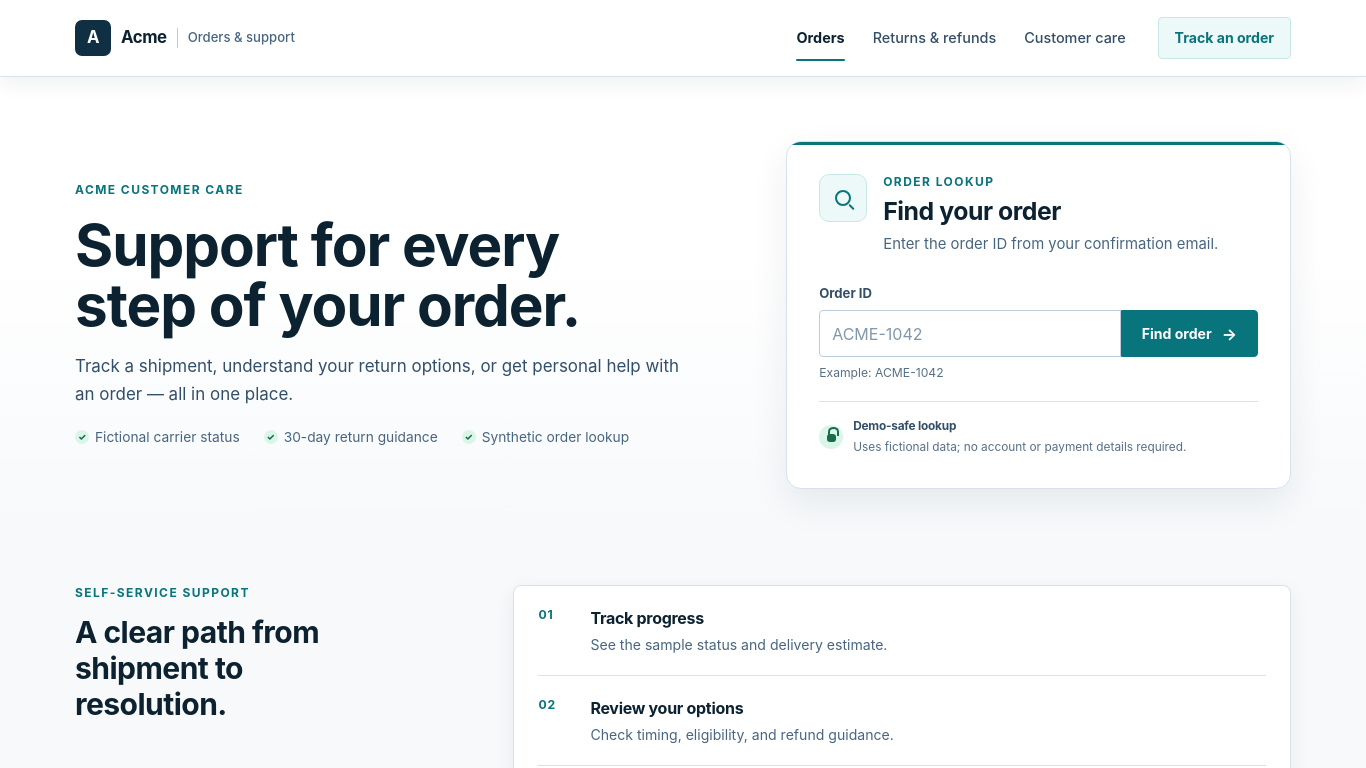
Test: SupportPortal customer journey › looks up a known order, projects deterministic details, and completes the case flow
This screenshot has width=1366, height=768.
Type "acme-1042" into the field with test id "order-id-input" at (970, 334), box [819,310,1121,357]
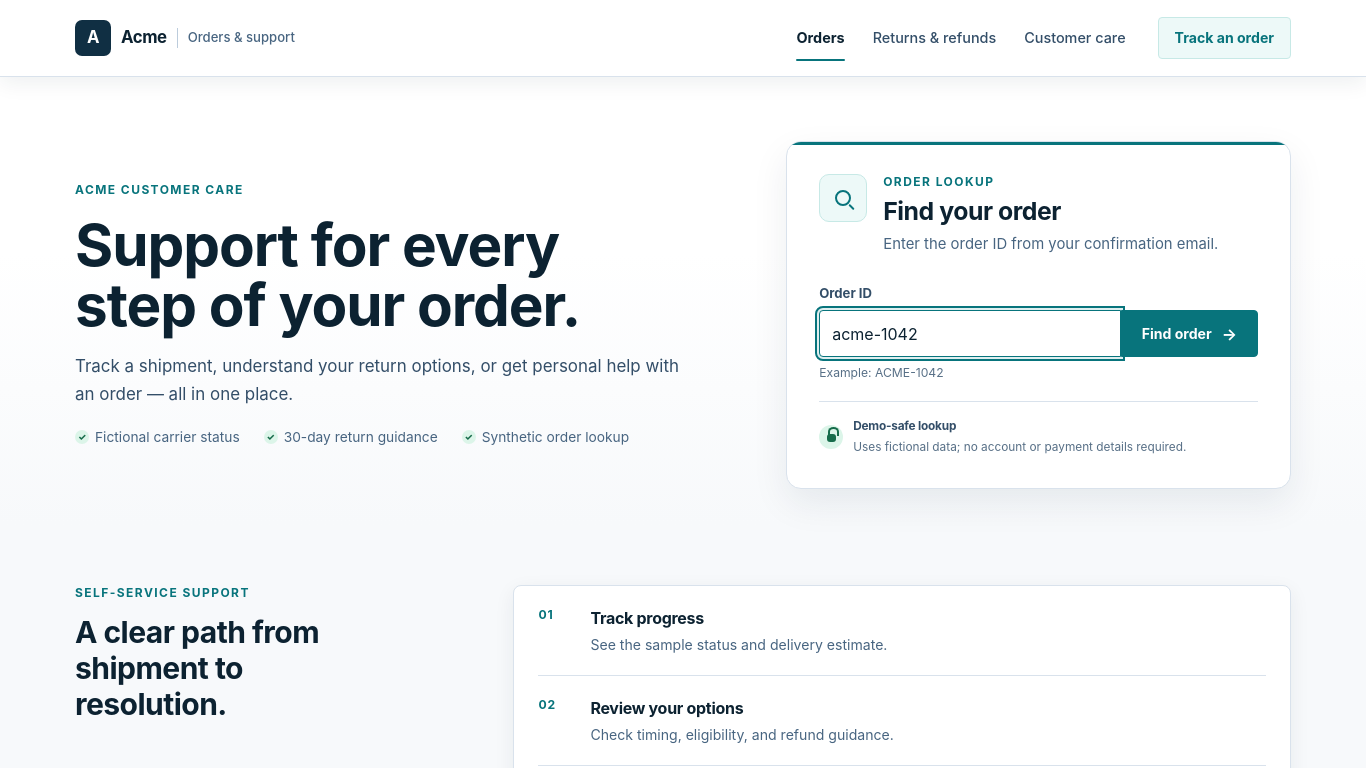
Click the button with test id "order-lookup-button" at (1189, 334), box [1121,310,1258,357]
(page scrolled)
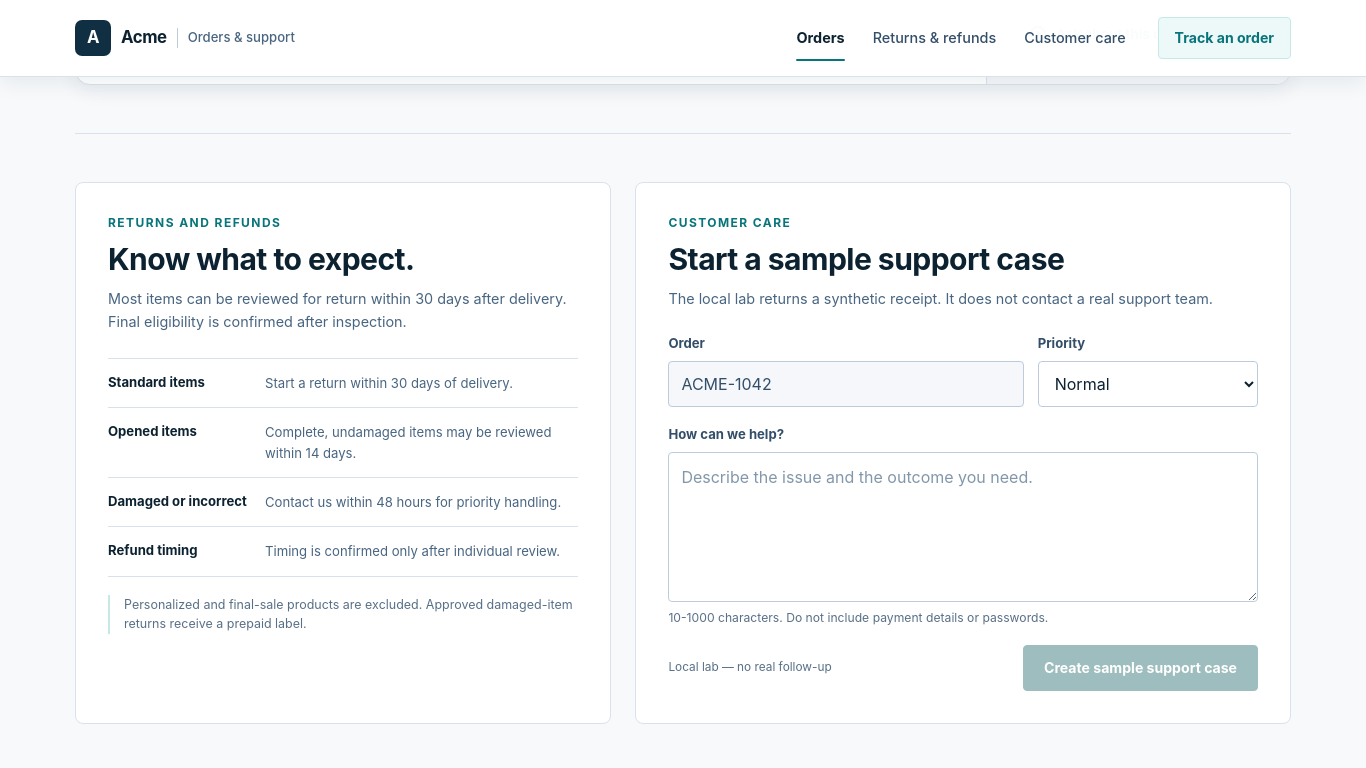
Select "High" in the dropdown with test id "priority-select" at (1148, 384), box [1038,361,1258,407]
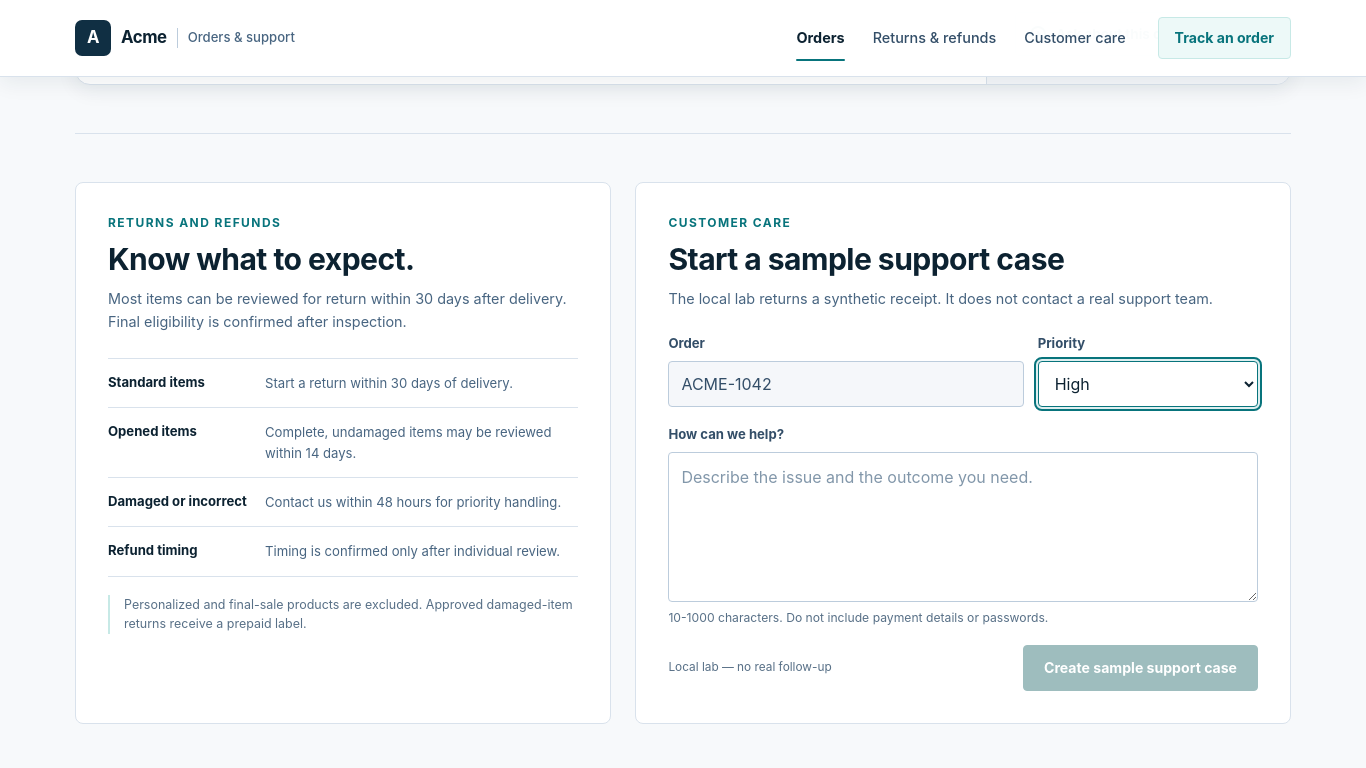
Type "The order is delayed and I need help with the delivery date." into the text box with test id "support-case-description" at (963, 527), box [668,452,1258,602]
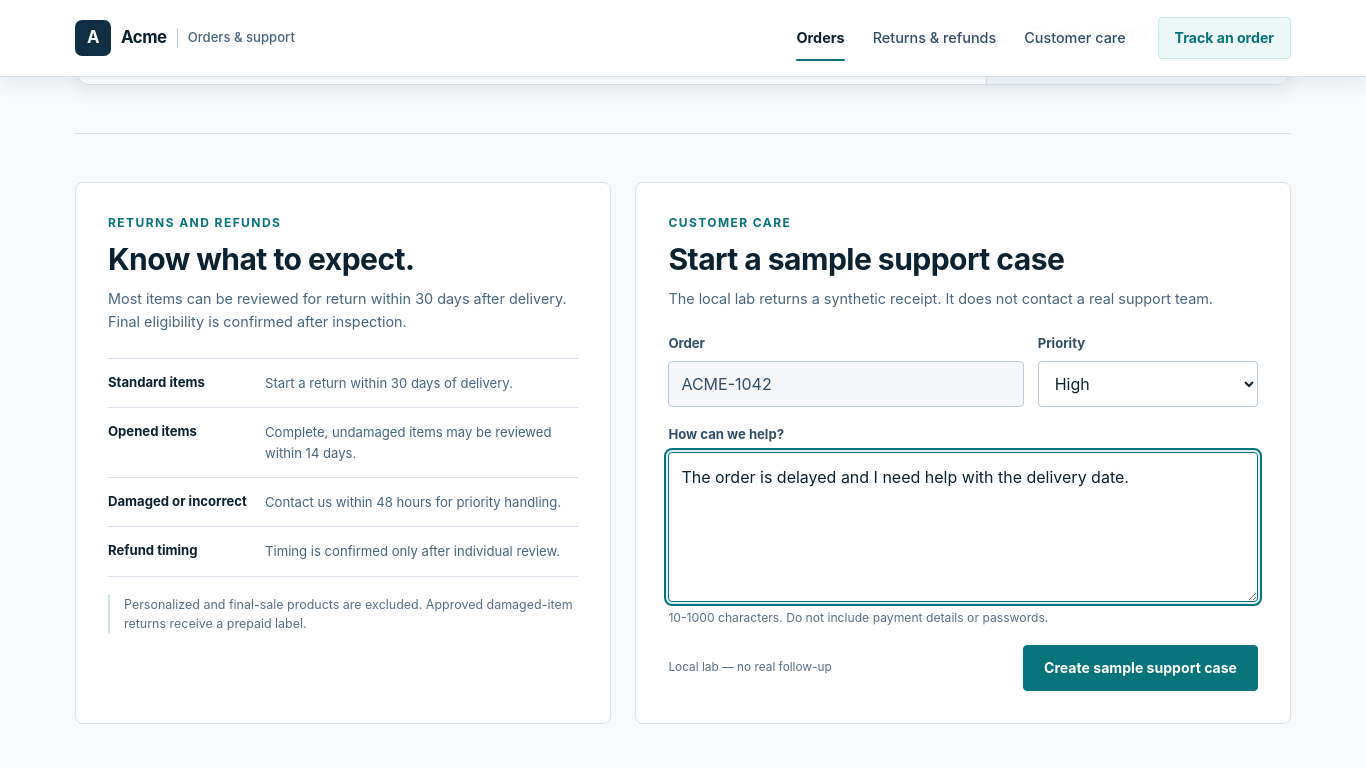
Click the button with test id "create-support-case-button" at (1140, 668), box [1023,645,1258,691]
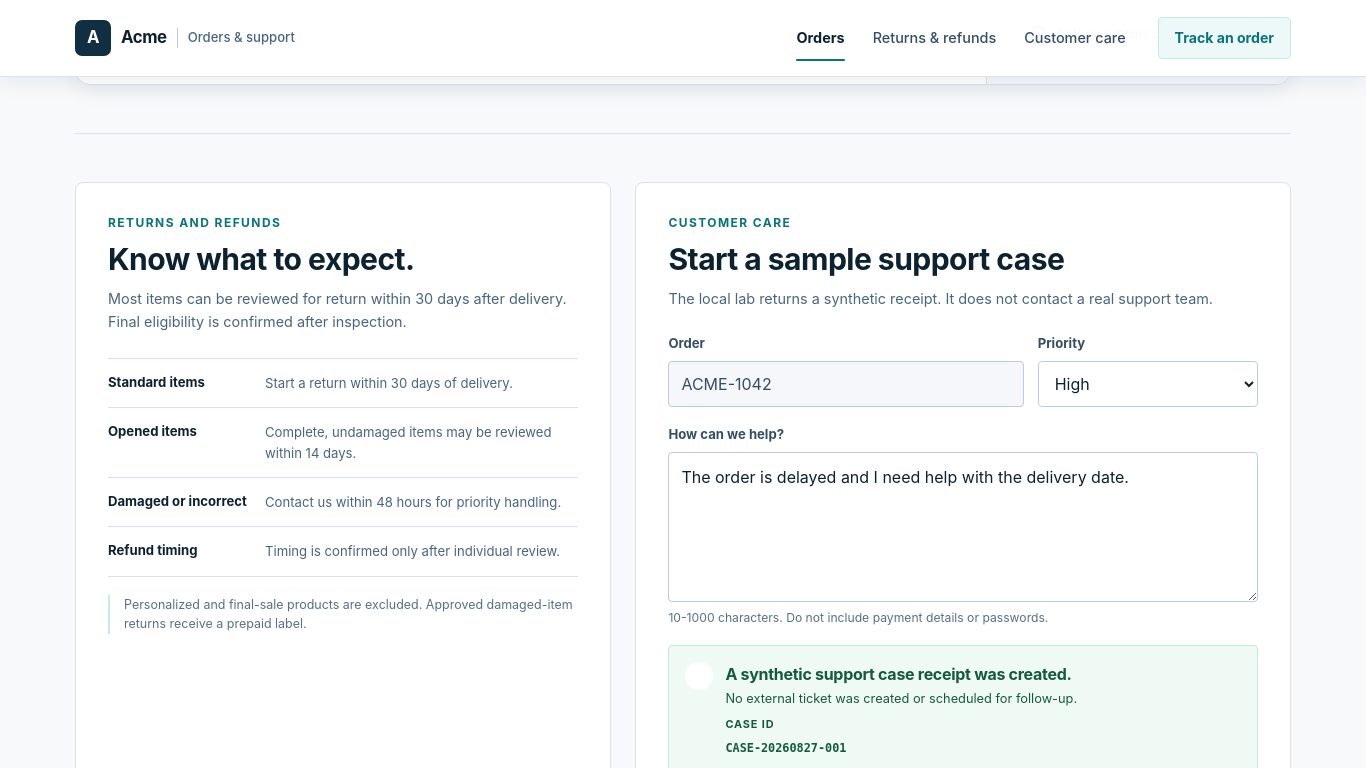
Now the text with test id "support-case-id" reads "CASE-20260827-001", box [725,741,846,755]
